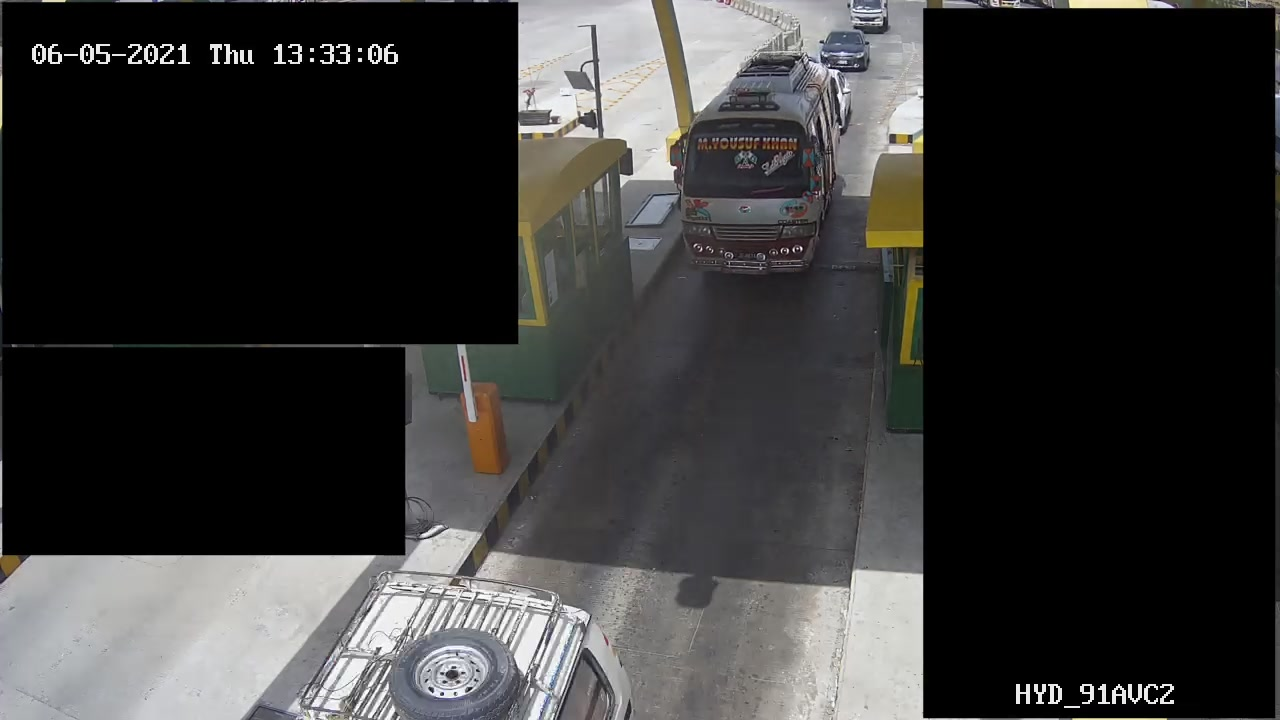F4: (672, 55, 848, 288)
